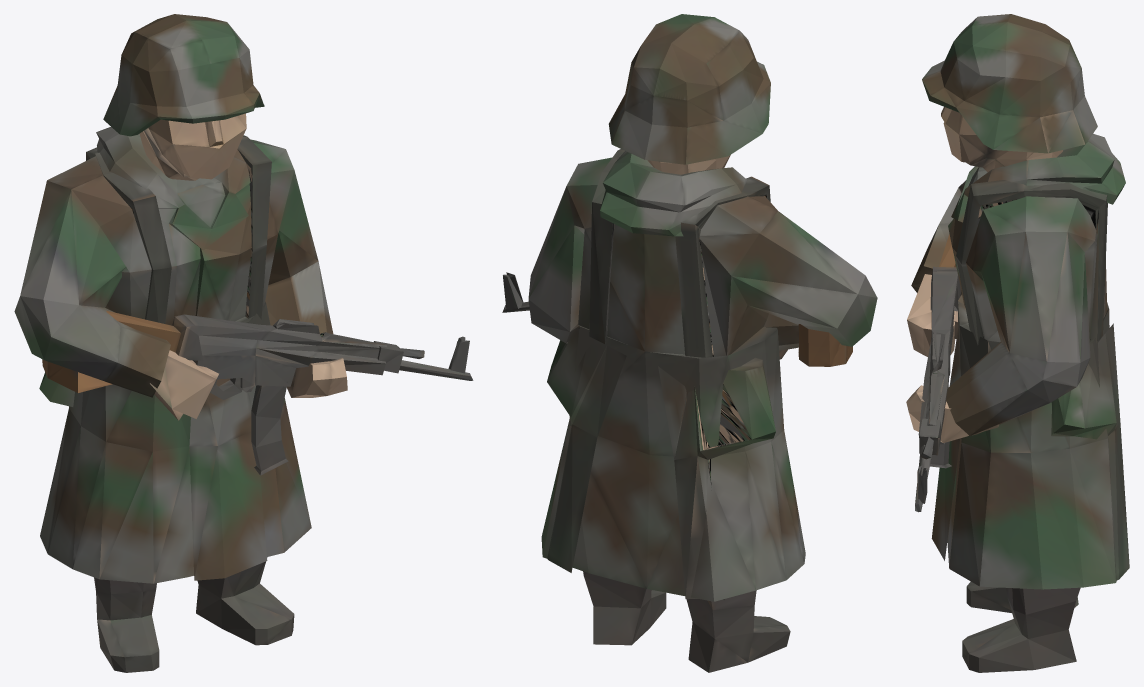
File: bulge_german_airborne_1.glb
The picture shows the model from 3 angles, left to right: view 1: azimuth 30°, elevation 25°; view 2: azimuth 150°, elevation 25°; view 3: azimuth 270°, elevation 25°; orthographic projection. The views are drawn at different scales.
Parts seen in each view (by area): view 1: geometry_0; view 2: geometry_0; view 3: geometry_0.
Part boxes in pixels (<box>): geometry_0: <box>14,14,473,672</box>; geometry_0: <box>502,14,877,672</box>; geometry_0: <box>906,14,1129,672</box>.
Bounding box in the file's own units: 0.2214 × 0.324 × 0.108.
Materials: 1 (1 with a texture image).
